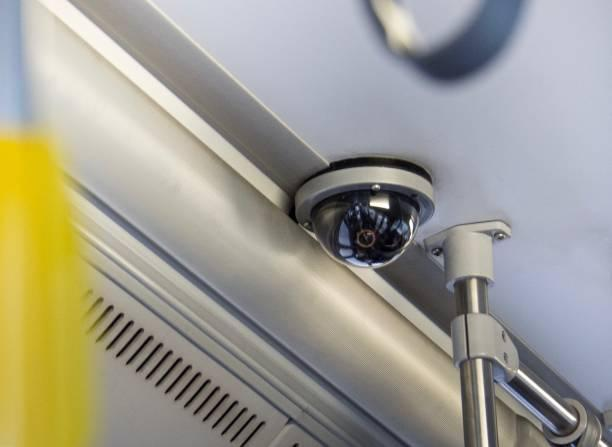camera: (292, 123, 441, 306)
